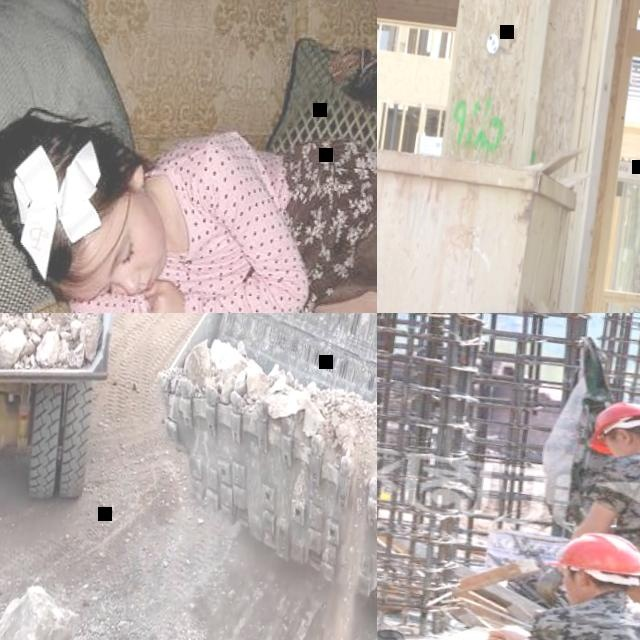Hardhat: (540, 523, 640, 589), (583, 396, 640, 467)
NO-Hardhat: (0, 110, 141, 302)
NO-Mask: (133, 222, 172, 295), (605, 438, 637, 462), (561, 582, 583, 606)
NO-Safety Vest: (156, 130, 292, 308), (594, 443, 640, 589), (525, 592, 640, 640)
Person: (0, 82, 377, 313), (442, 519, 640, 640), (557, 394, 640, 640)
machinery: (123, 313, 377, 635), (0, 313, 150, 542)
